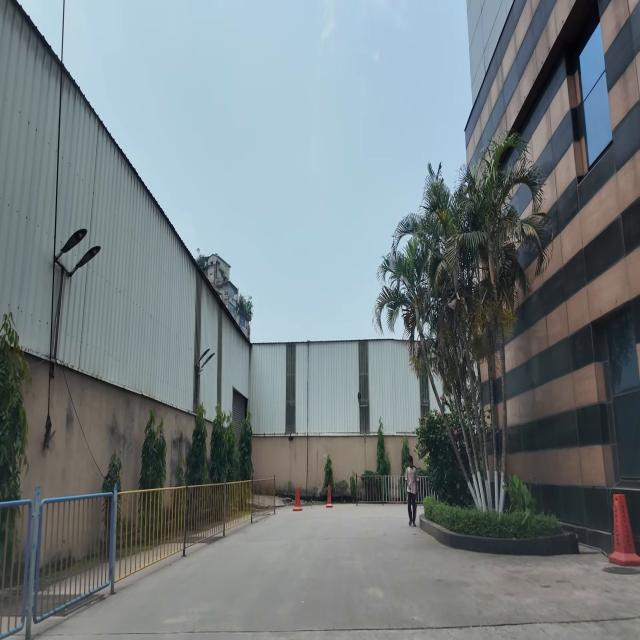person: (405, 455, 418, 527)
